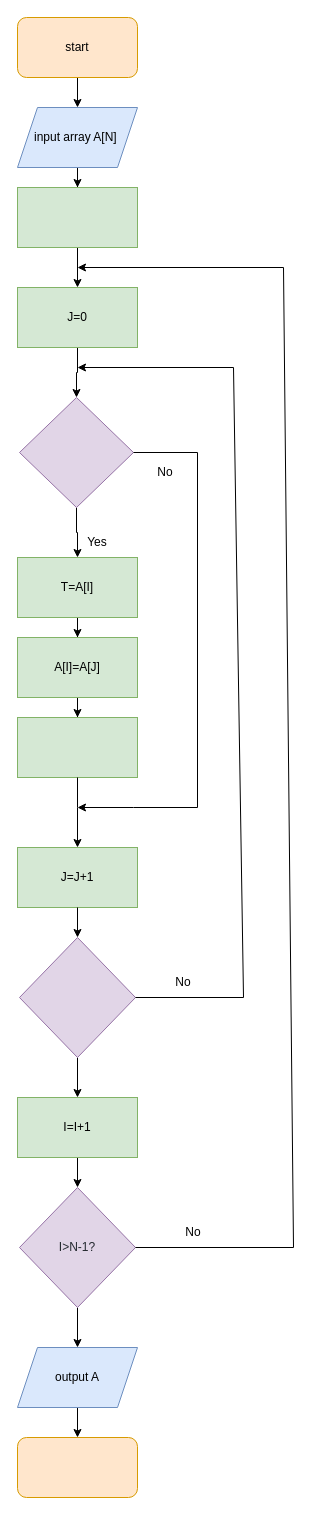
The diagram is 319 pixels wide and 1515 high, and some of its shapes have lost their labels. Here are the shapes that lost their labels. From the top down, the box of each, then its label:
(16, 186, 138, 248): I=0
(18, 396, 134, 508): is A[J]>A[I]?
(16, 716, 138, 778): A[J]=T
(18, 936, 136, 1058): J>N-1?
(16, 1436, 138, 1498): end
